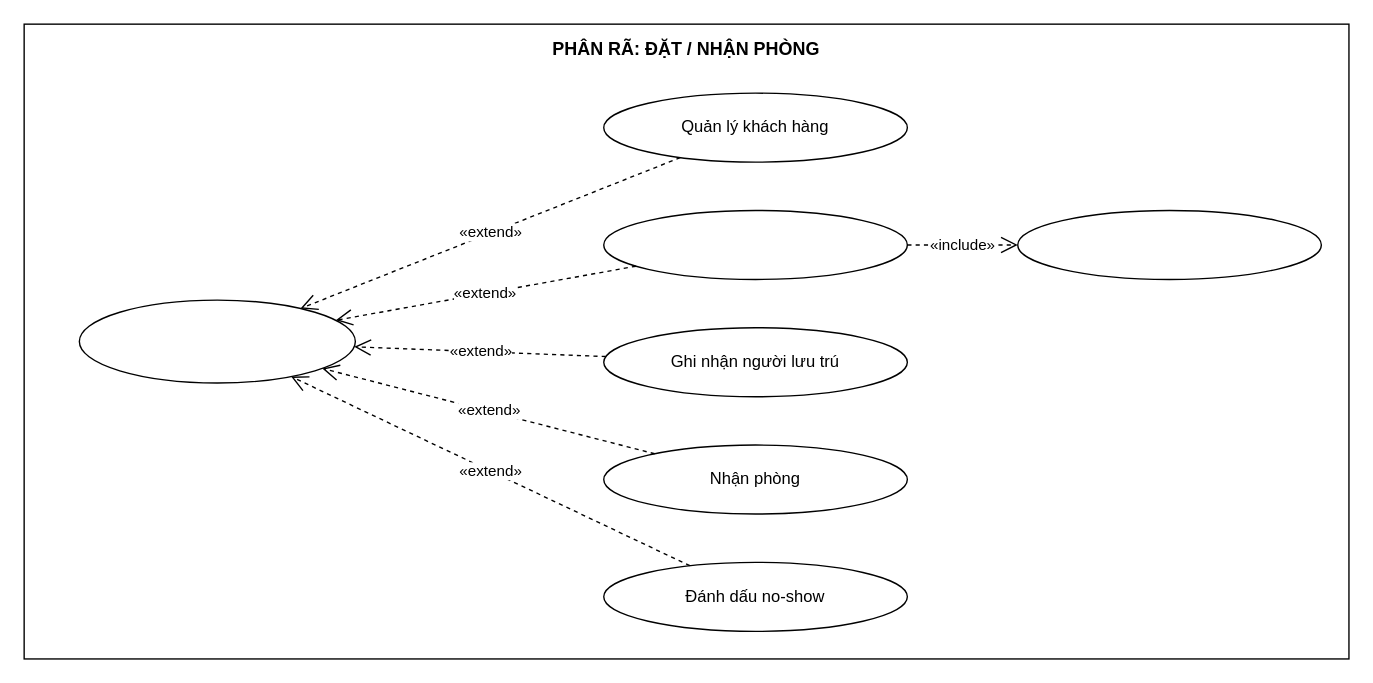
Image size: 1373x683. Some labels were removed from this diagram. The shapes that lost their labels are listed below. From the top down, each one's centre as x and y in pixels, then its label:
At (x=754, y=244): "Lập phiếu đặt phòng".
At (x=1168, y=244): "Kiểm tra sức chứa, trùng lịch".
At (x=216, y=341): "Đặt / nhận phòng".
